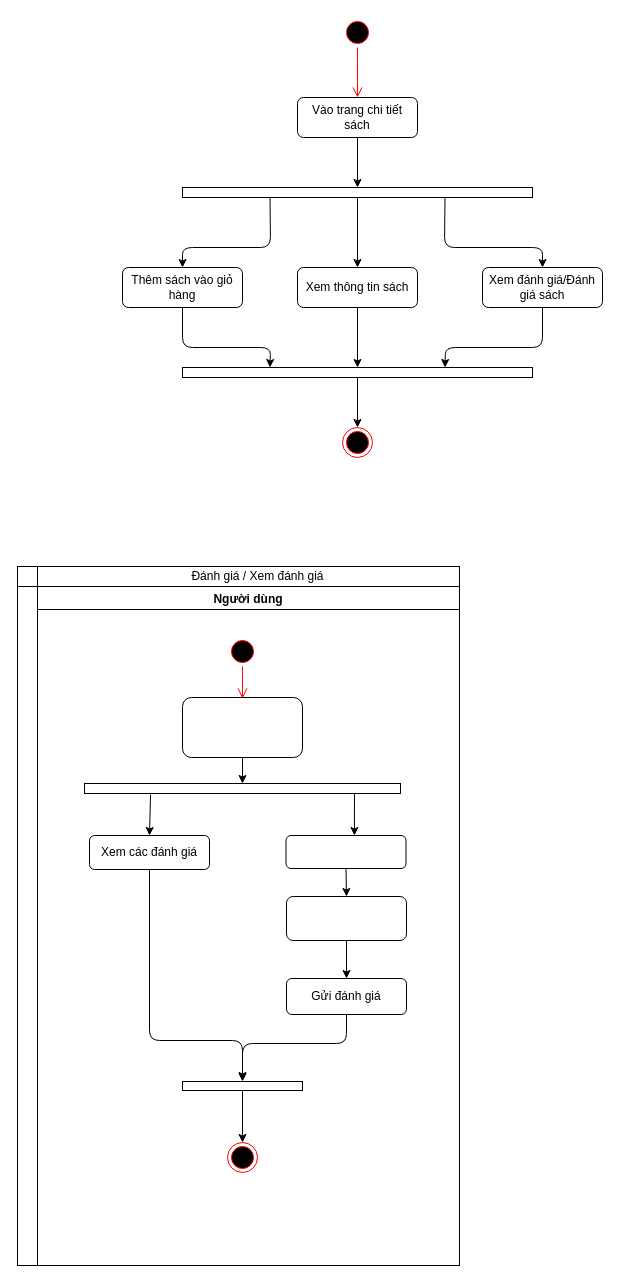
The diagram is 620 pixels wide and 1283 high, and some of its shapes have lost their labels. Here are the shapes that lost their labels. From the top down, the centre of each, then its label:
At (242,727): "Vào giao đánh giá trong giao diện chi tiết sách".
At (345,851): "Đánh giá sách".
At (346,918): "Nhập điểm số và bình luận".
